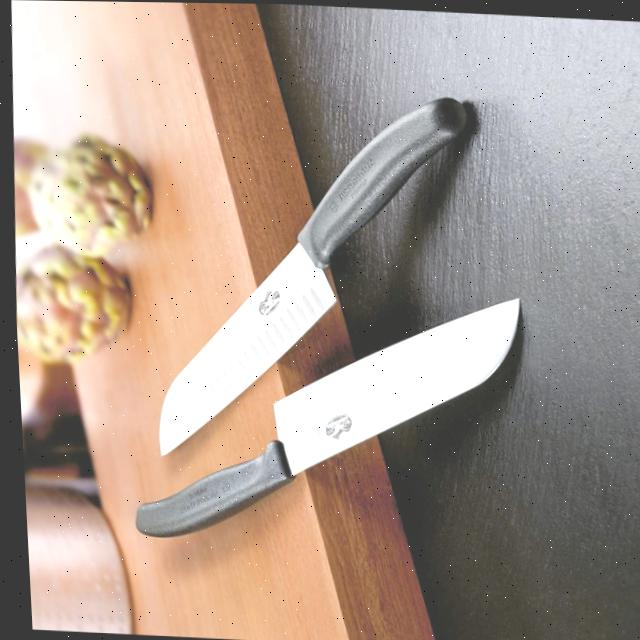knife: (134, 79, 488, 471), (116, 274, 532, 554)
